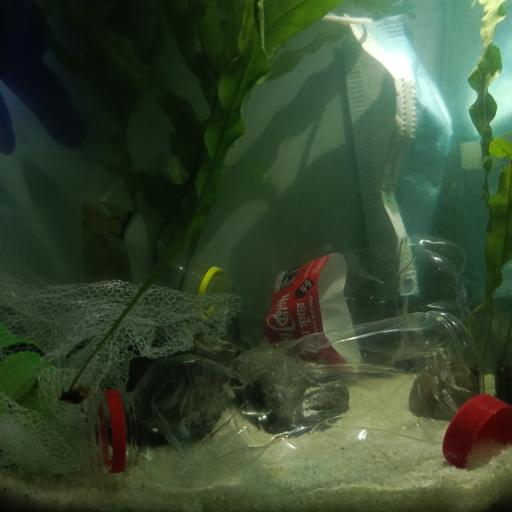bottle_cap: (442, 392, 512, 469)
mask: (338, 11, 458, 303)
net: (0, 267, 243, 474)
plastic_bottle: (76, 311, 489, 491), (238, 238, 478, 368), (2, 200, 240, 324), (1, 321, 48, 417)
